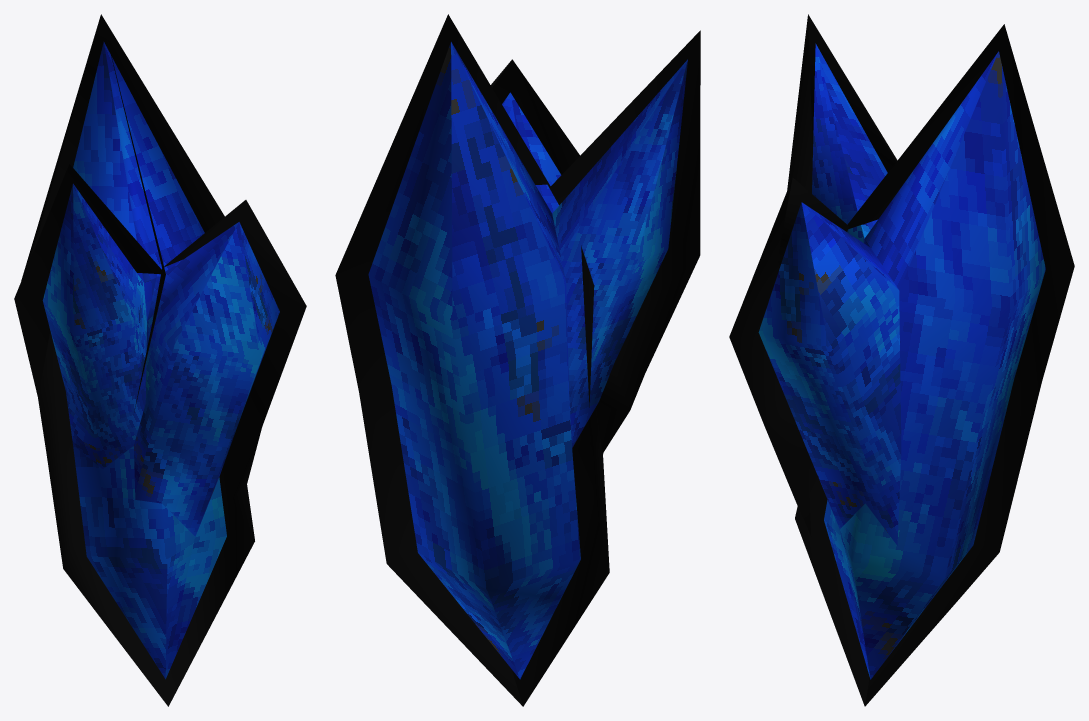
File: OUBLIETTECRYSTAL3_PU.fbx
3 views of the same model, side by side, from view 1: azimuth 30°, elevation 25°; view 2: azimuth 150°, elevation 25°; view 3: azimuth 270°, elevation 25° (orthographic). The views are drawn at different scales.
Parts seen in each view (by area): view 1: OUBLIETTECRYSTAL3_PU; view 2: OUBLIETTECRYSTAL3_PU; view 3: OUBLIETTECRYSTAL3_PU.
Part boxes in pixels (x1,y1,x2,y2): OUBLIETTECRYSTAL3_PU: (14, 14, 306, 706); OUBLIETTECRYSTAL3_PU: (335, 14, 700, 706); OUBLIETTECRYSTAL3_PU: (729, 14, 1074, 706).
Bounding box in the file's own units: 3529 × 8650 × 3970.
Materials: 1 (1 with a texture image).
